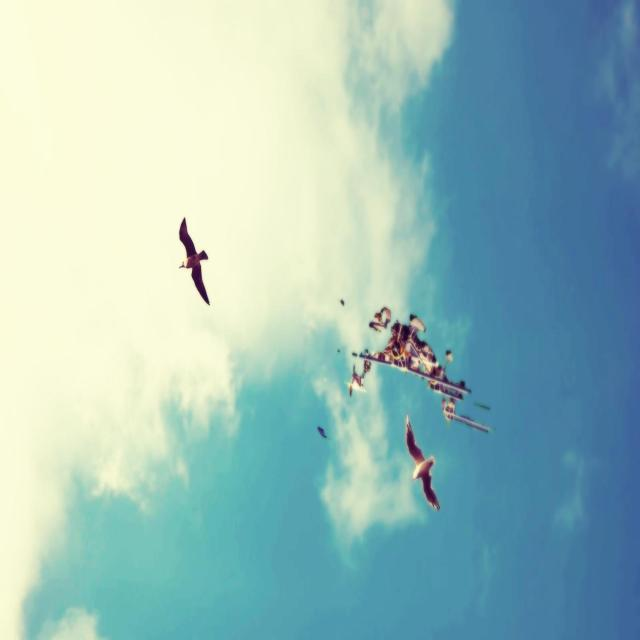airplane: (342, 296, 492, 433)
